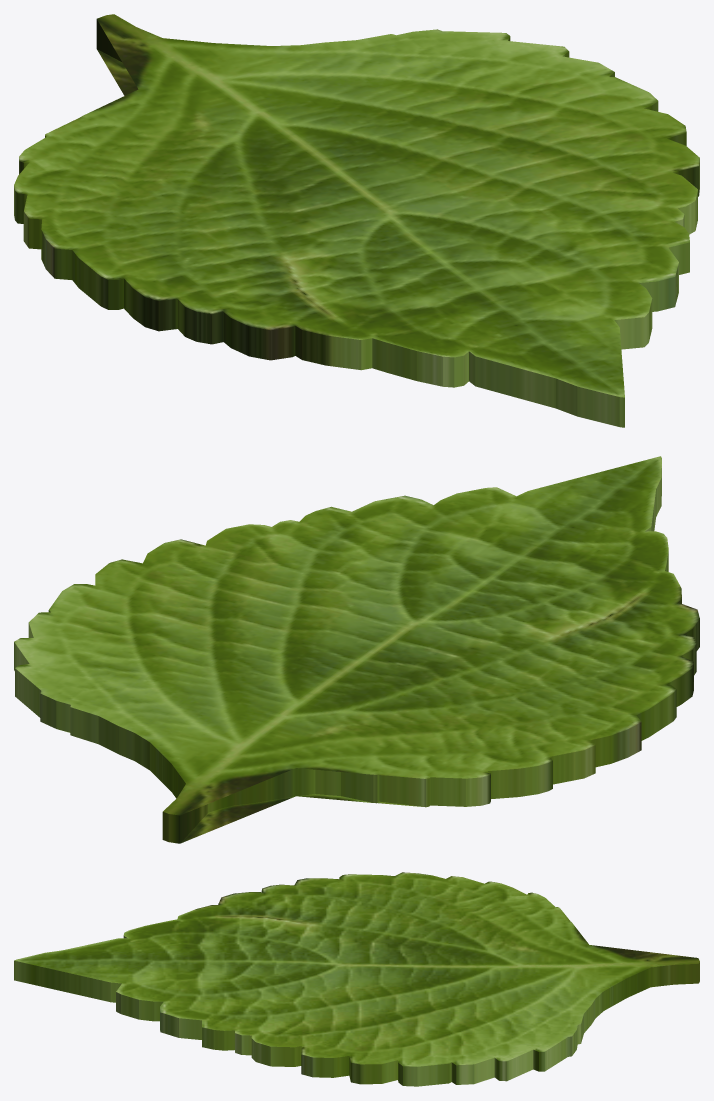
Rendered from la_tia_to.fbx.
3 renders of one model, top to bottom at view 1: azimuth 30°, elevation 25°; view 2: azimuth 150°, elevation 25°; view 3: azimuth 270°, elevation 25°, orthographic. The views are drawn at different scales.
Visible parts, largest first — view 1: la_tia_to; view 2: la_tia_to; view 3: la_tia_to.
Boxes of the visible parts, x1,y1,x2,y2 form: la_tia_to: (14, 14, 699, 427); la_tia_to: (14, 456, 699, 843); la_tia_to: (14, 872, 699, 1086).
Bounding box in the file's own units: 8.98 × 0.4266 × 13.39.
1 material, 1 textured.
